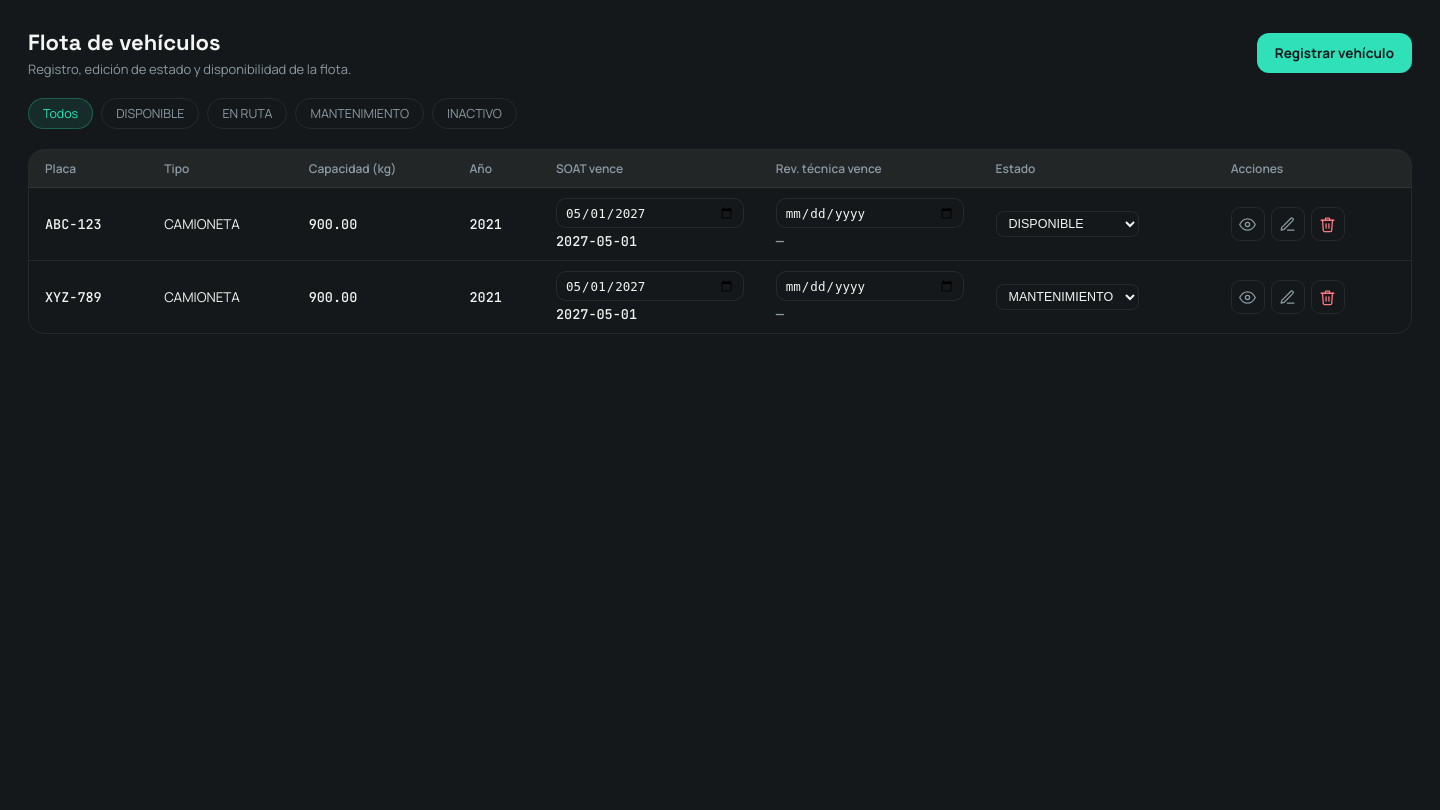
Test: Flota: filtros, estado, documentos y errores › si la API rechaza la eliminación avisa con el motivo y no recarga la flota
Click the button named "Eliminar ABC-123": (1328, 224) x1=1311 y1=207 x2=1345 y2=241
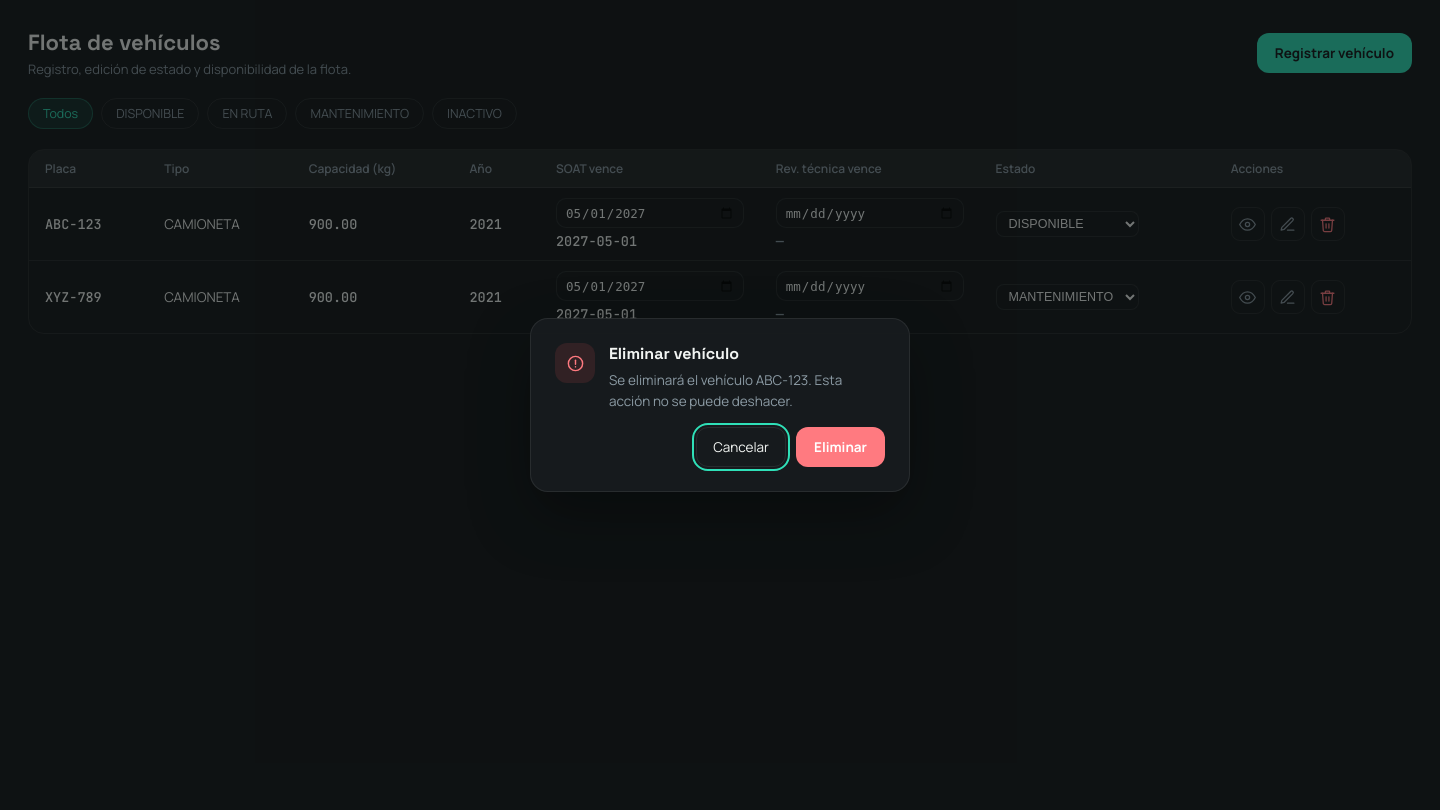
Click the button "Eliminar": (840, 447) x1=796 y1=427 x2=885 y2=467
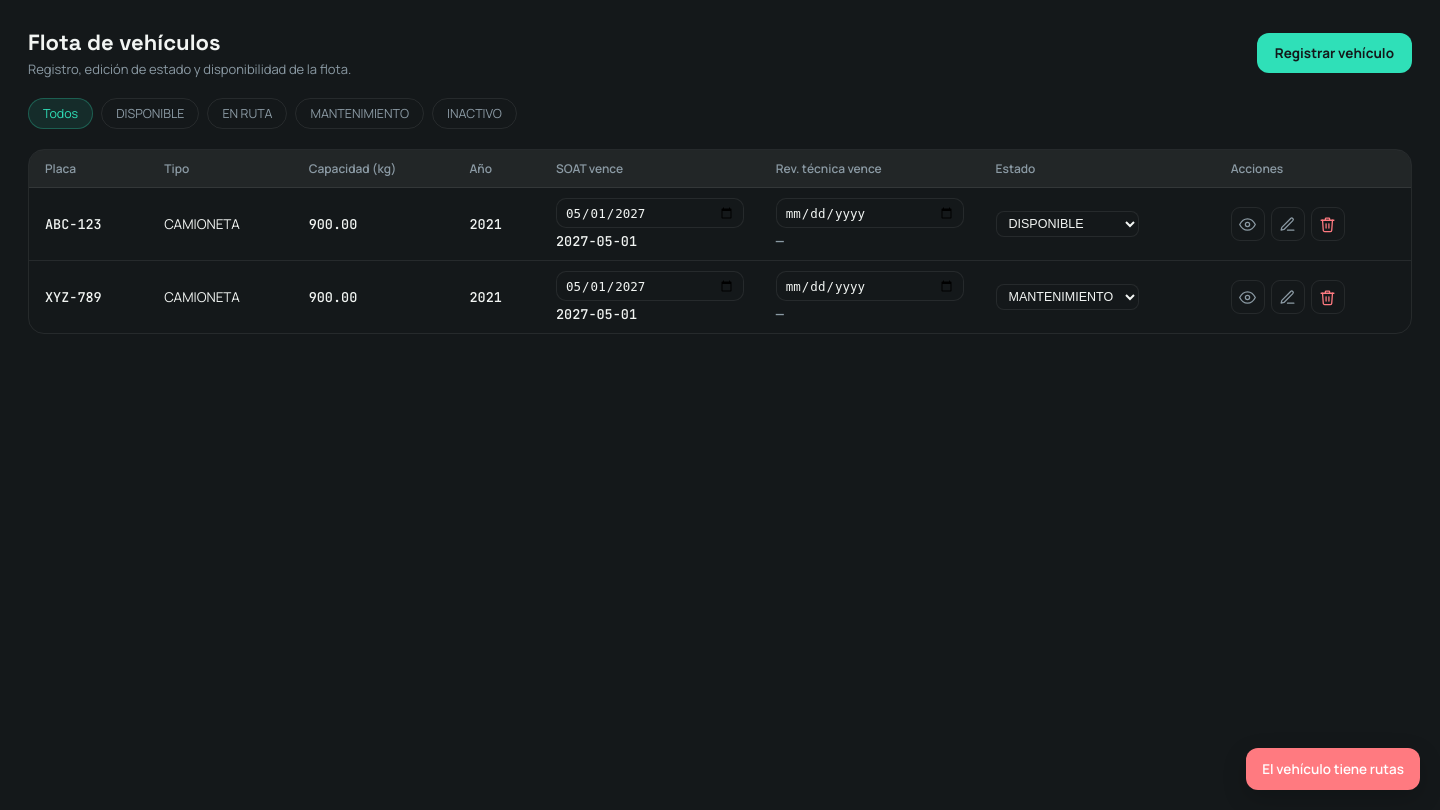
Expected: the text "ABC-123" is shown, x1=29 y1=188 x2=148 y2=260
Now the text "El vehículo tiene rutas" is shown, box x1=1246 y1=748 x2=1420 y2=790
